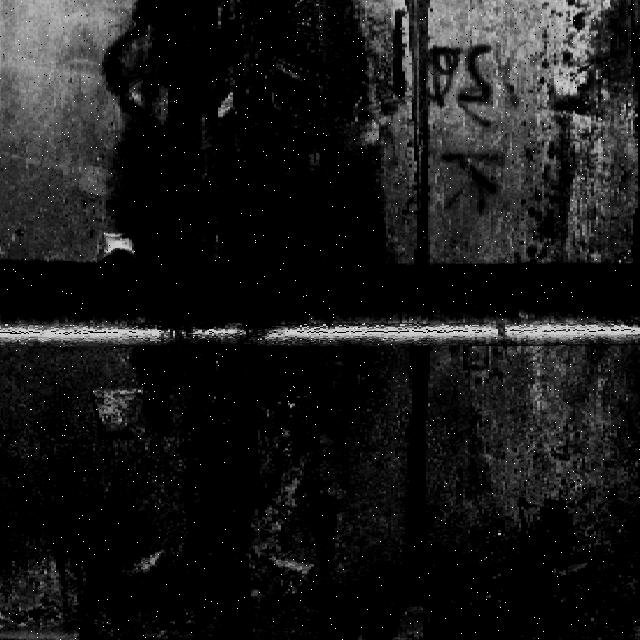leakage: (97, 1, 397, 266), (122, 346, 375, 640), (391, 349, 443, 640), (403, 4, 445, 264)
